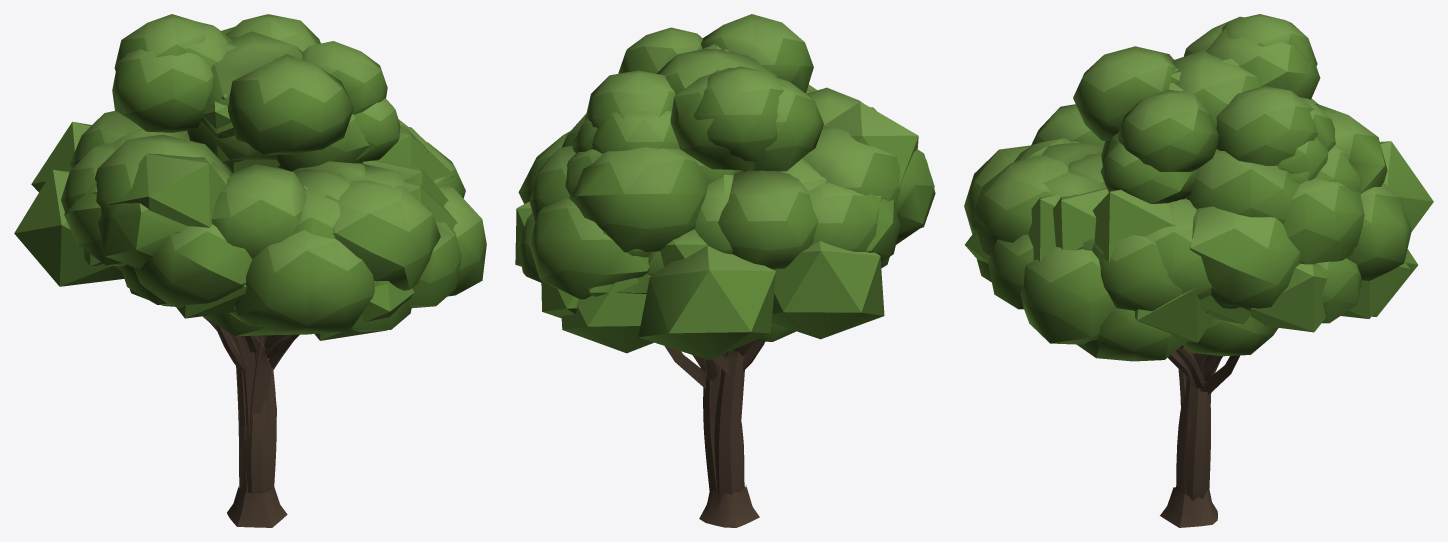
The model's file is arbol_tilo.glb.
3 views of the same model, side by side, from view 1: azimuth 30°, elevation 25°; view 2: azimuth 150°, elevation 25°; view 3: azimuth 270°, elevation 25° (orthographic).
Visible parts, largest first — view 1: hd_1, hd_0, hd_2, lo_1, lo_0, hd_3, hd_0_trunk, hd_3_trunk, lo_2, hd_1_trunk, hd_2_trunk; view 2: hd_1, hd_0, lo_1, hd_2, lo_0, hd_0_trunk, hd_3, hd_1_trunk, lo_2, hd_3_trunk, lo_3_trunk, lo_3; view 3: hd_1, hd_3, hd_0, hd_2, lo_1, lo_3, hd_1_trunk, lo_2, lo_0, hd_0_trunk, hd_3_trunk, lo_3_trunk.
Boxes of the visible parts, x1,y1,x2,y2 form: hd_1: [64, 31, 465, 334]; hd_0: [95, 14, 438, 271]; hd_2: [61, 14, 461, 308]; lo_1: [31, 43, 454, 340]; lo_0: [14, 101, 448, 286]; hd_3: [130, 98, 486, 336]; hd_0_trunk: [227, 349, 287, 527]; hd_3_trunk: [214, 323, 299, 493]; lo_2: [84, 60, 457, 318]; hd_1_trunk: [238, 334, 292, 494]; hd_2_trunk: [244, 335, 273, 493]; hd_1: [565, 14, 935, 268]; hd_0: [529, 70, 900, 299]; lo_1: [588, 44, 918, 360]; hd_2: [561, 47, 881, 276]; lo_0: [561, 241, 884, 353]; hd_0_trunk: [699, 349, 759, 527]; hd_3: [518, 131, 795, 341]; hd_1_trunk: [703, 366, 745, 493]; lo_2: [541, 49, 924, 318]; hd_3_trunk: [692, 340, 764, 491]; lo_3_trunk: [664, 346, 742, 432]; lo_3: [515, 201, 532, 266]; hd_1: [964, 16, 1387, 311]; hd_3: [1020, 141, 1361, 361]; hd_0: [1014, 86, 1411, 312]; hd_2: [973, 14, 1328, 309]; lo_1: [965, 58, 1433, 342]; lo_3: [1199, 263, 1327, 332]; hd_1_trunk: [1174, 354, 1210, 501]; lo_2: [1028, 68, 1409, 318]; lo_0: [1053, 188, 1417, 316]; hd_0_trunk: [1160, 408, 1217, 527]; hd_3_trunk: [1168, 345, 1222, 491]; lo_3_trunk: [1168, 353, 1240, 394].
Bounding box in the file's own units: 4.55 × 5.76 × 5.14.
